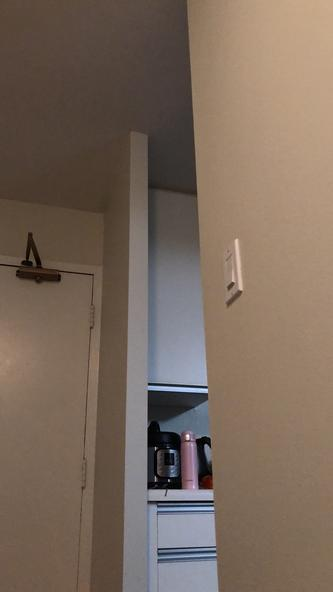switch: (219, 254, 242, 292)
